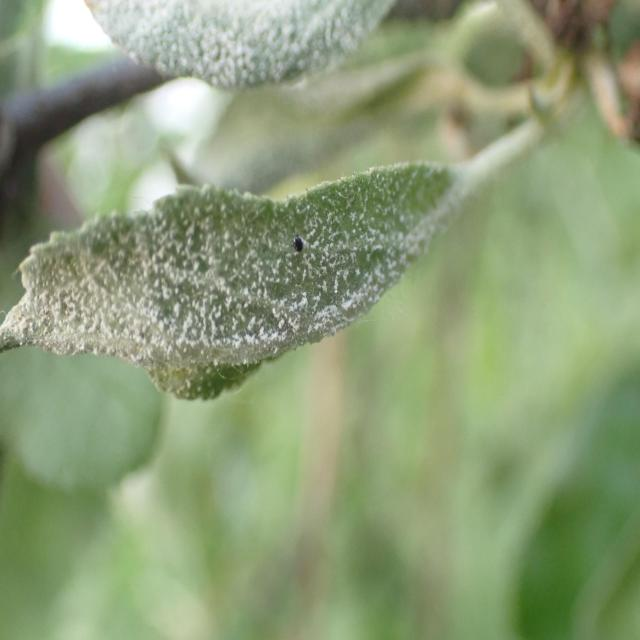Powdery_mildew: (2, 160, 510, 430), (94, 0, 402, 92)
